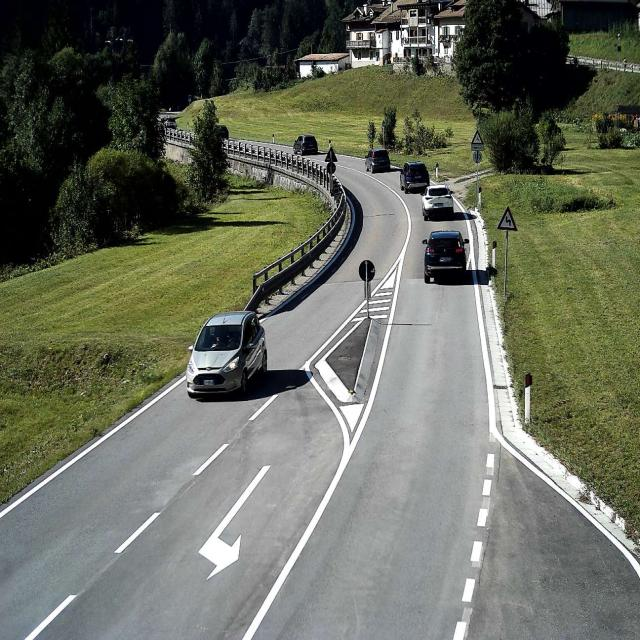car: (186, 310, 267, 398), (422, 230, 470, 282), (421, 184, 454, 218), (400, 160, 429, 193), (365, 148, 390, 173), (293, 134, 317, 154)
